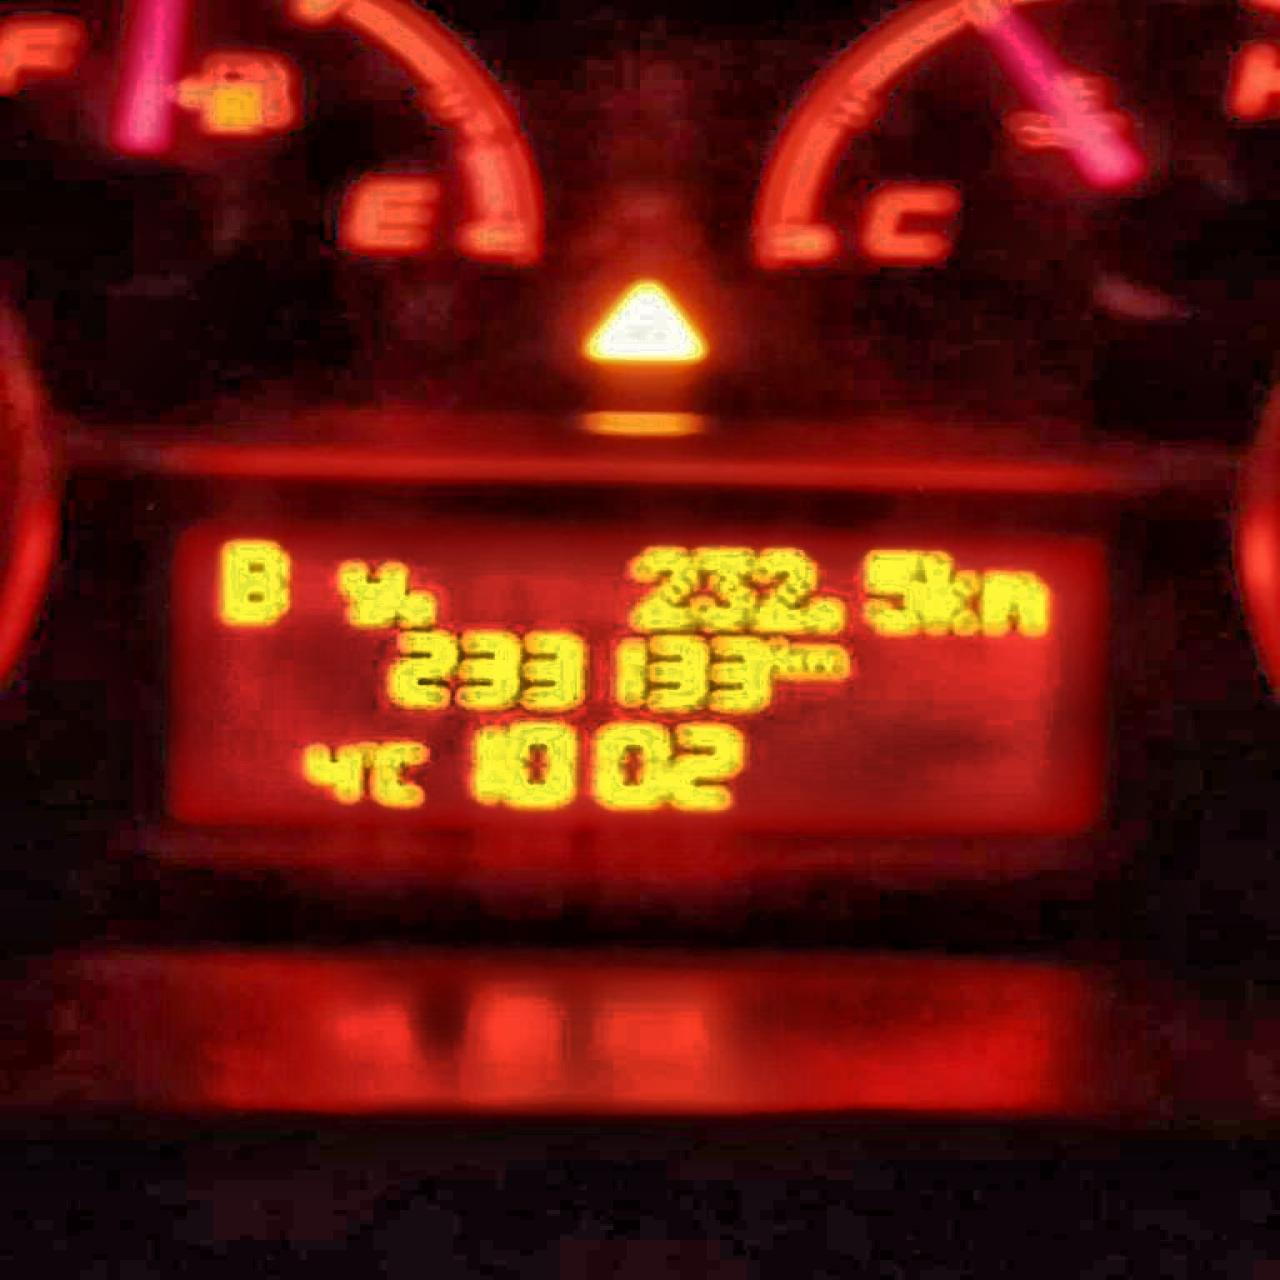-: (400, 586, 438, 630), (812, 592, 845, 634)
0: (590, 719, 670, 811), (505, 719, 577, 811)
1: (465, 722, 503, 806), (610, 632, 647, 712)
2: (668, 716, 745, 812), (620, 542, 695, 632), (382, 630, 456, 708), (752, 540, 812, 632)
3: (520, 629, 587, 709), (457, 626, 520, 710), (695, 542, 753, 632), (647, 631, 710, 711), (710, 634, 772, 712)
4: (297, 737, 358, 805)
5: (860, 548, 927, 636)
X: (208, 531, 294, 629), (323, 551, 402, 630), (980, 565, 1050, 636), (925, 548, 980, 636), (375, 738, 428, 806), (795, 639, 852, 679), (768, 634, 795, 678)
odometer: (152, 511, 1120, 844)
